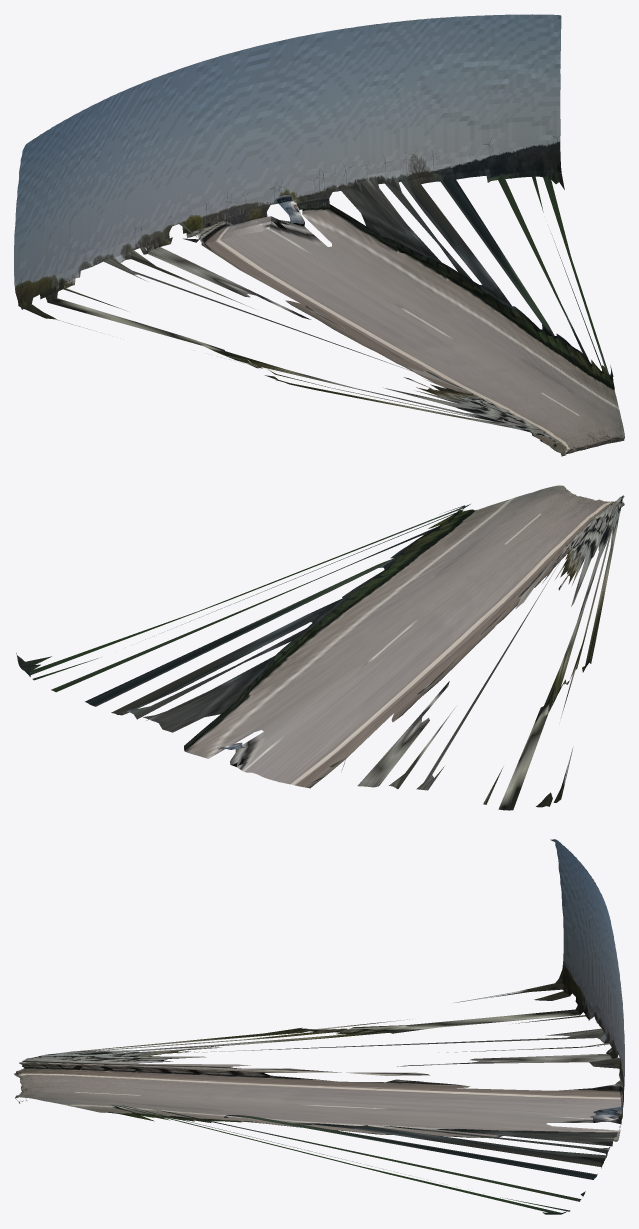
3 views of the same model, one above another, from view 1: azimuth 30°, elevation 25°; view 2: azimuth 150°, elevation 25°; view 3: azimuth 270°, elevation 25° (orthographic). The views are drawn at different scales.
Parts seen in each view (by area): view 1: defaultobject; view 2: defaultobject; view 3: defaultobject.
Part boxes in pixels (x1=…): defaultobject: x1=14, y1=14, x2=624, y2=456; defaultobject: x1=16, y1=485, x2=624, y2=810; defaultobject: x1=14, y1=839, x2=624, y2=1214.
Size of the model in its own units: 41.16 by 13.61 by 44.53.
Materials: 1 (1 with a texture image).
